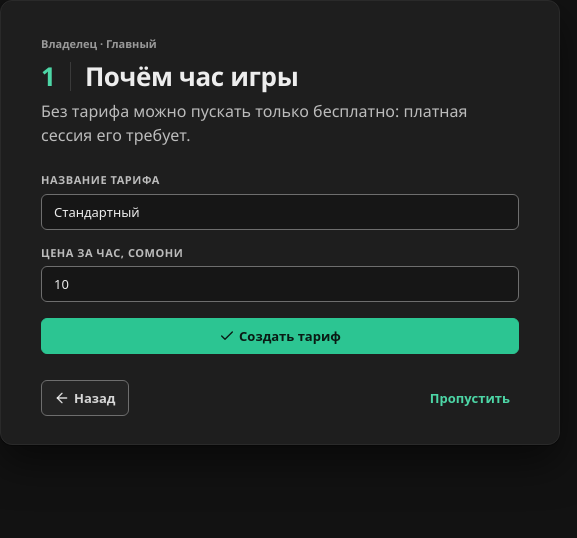
it: TariffScreen · тариф создаётся один раз › поля созданного тарифа не притворяются редактируемыми
Replace the text in the field labelled "Название тарифа" with "Дневной". click: x=280, y=212
box: [41,194,519,230]
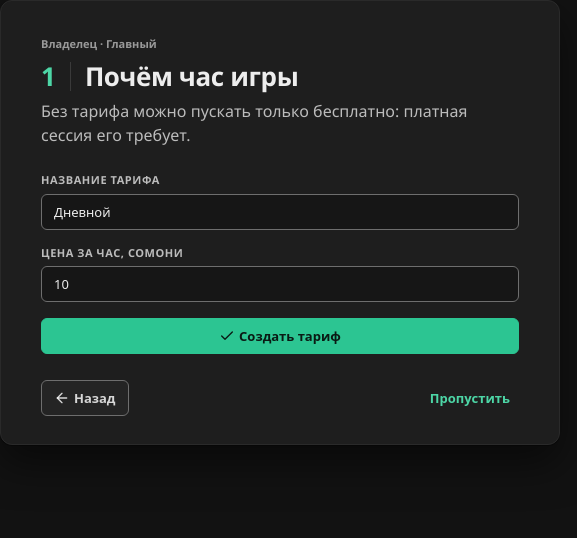
Click the button "Создать тариф". click: x=280, y=336
box: [41,318,519,354]
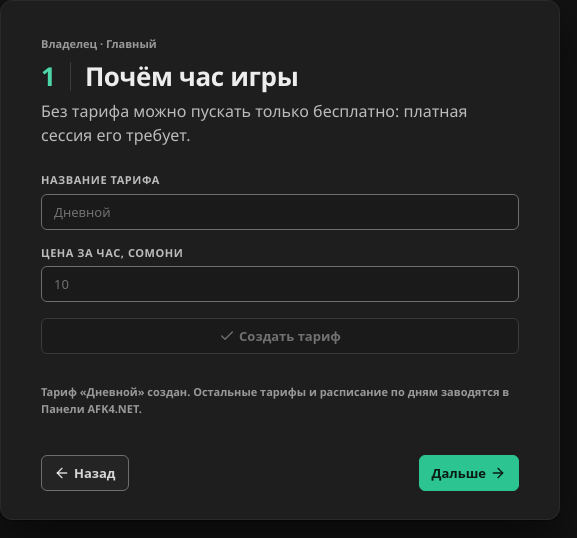
Result: the field labelled "Название тарифа" is disabled at [41,194,519,230]
Result: the number field labelled "Цена за час, сомони" is disabled at [41,266,519,302]
Result: the text "Остальные тарифы и расписание по дням заводятся в Панели AFK4.NET" is shown at [41,385,509,417]
